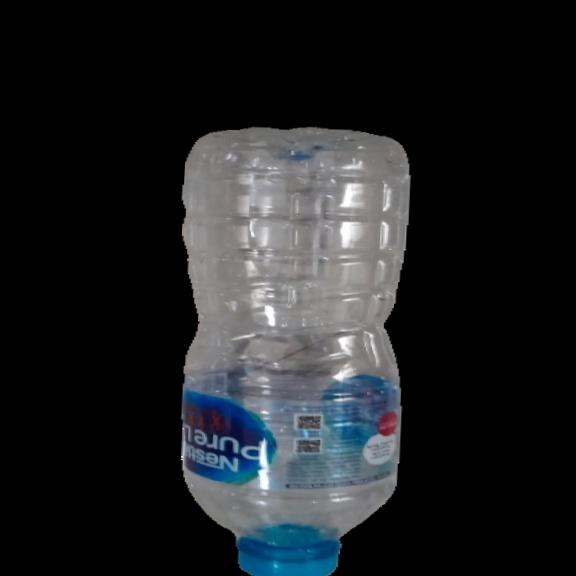Plastik: (153, 121, 435, 576)
